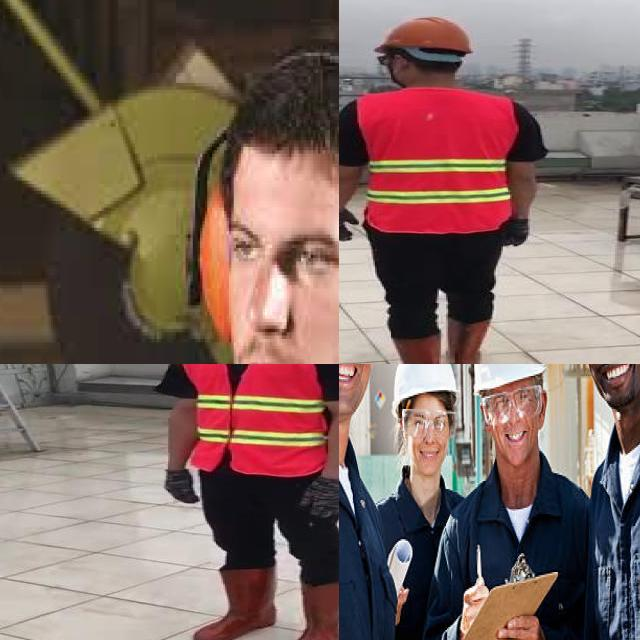Ear-protection: (178, 118, 339, 364)
No_Ear-Protection: (478, 404, 492, 434), (539, 391, 550, 427)
boots: (194, 567, 278, 640), (283, 581, 339, 640), (446, 314, 494, 364), (385, 334, 444, 364)
face_nomask: (493, 416, 539, 464), (592, 364, 640, 401), (339, 364, 368, 410), (411, 439, 448, 475)
glasses: (482, 386, 543, 426), (402, 410, 453, 442)
hand_glove: (503, 214, 531, 247), (339, 212, 357, 244)
hand_noglove: (459, 579, 489, 638), (460, 584, 490, 640), (494, 614, 547, 640)
head_helmet: (369, 12, 472, 54), (392, 364, 456, 417), (474, 364, 546, 392)
person: (339, 10, 551, 364), (153, 364, 339, 640)
vest: (354, 86, 514, 232), (178, 364, 338, 474)
